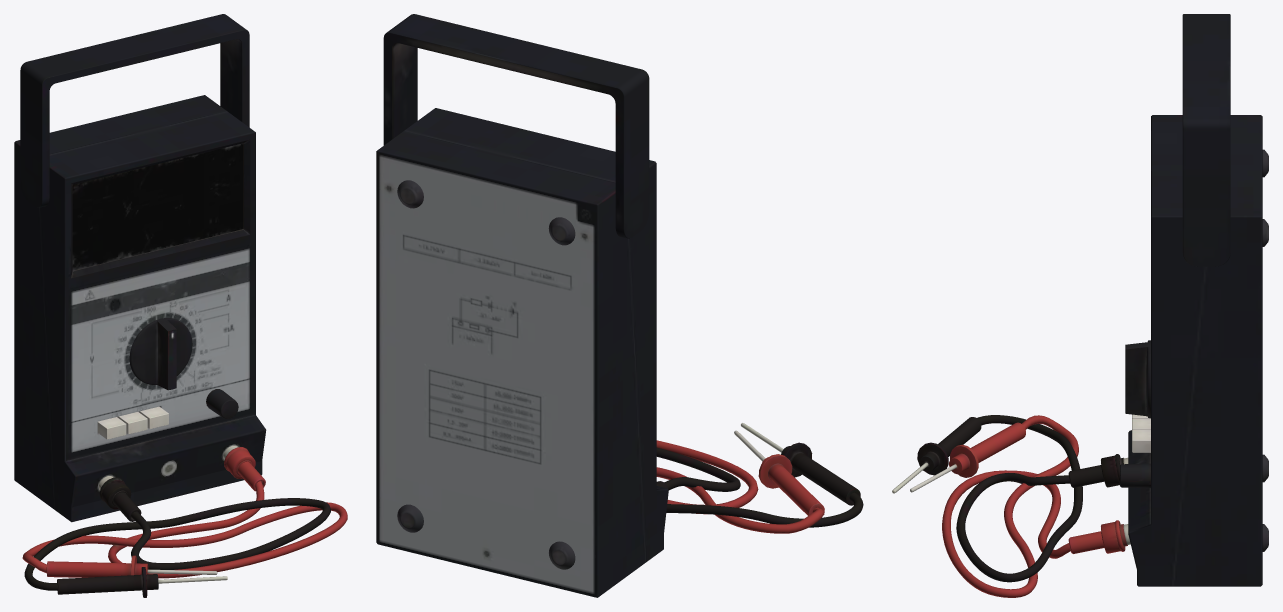
Rendered from multimeter.glb.
3 views of the same model, side by side, from view 1: azimuth 30°, elevation 25°; view 2: azimuth 150°, elevation 25°; view 3: azimuth 270°, elevation 25° (orthographic). The views are drawn at different scales.
Parts seen in each view (by area): view 1: retro_multimeter_LOD0, retro_multimeter_cables_LOD0, retro_multimeter_handle_LOD0, retro_multimeter_dial_LOD0, retro_multimeter_buttons_LOD0, retro_multimeter_knob_LOD0; view 2: retro_multimeter_LOD0, retro_multimeter_handle_LOD0, retro_multimeter_cables_LOD0; view 3: retro_multimeter_LOD0, retro_multimeter_cables_LOD0, retro_multimeter_handle_LOD0, retro_multimeter_dial_LOD0, retro_multimeter_knob_LOD0, retro_multimeter_buttons_LOD0.
Boxes of the visible parts, bbox=[...] form: retro_multimeter_LOD0: bbox=[14, 95, 266, 522]; retro_multimeter_cables_LOD0: bbox=[22, 445, 347, 597]; retro_multimeter_handle_LOD0: bbox=[20, 14, 249, 207]; retro_multimeter_dial_LOD0: bbox=[129, 318, 192, 390]; retro_multimeter_buttons_LOD0: bbox=[97, 406, 168, 439]; retro_multimeter_knob_LOD0: bbox=[206, 389, 238, 418]; retro_multimeter_LOD0: bbox=[376, 108, 668, 597]; retro_multimeter_handle_LOD0: bbox=[383, 14, 649, 238]; retro_multimeter_cables_LOD0: bbox=[656, 423, 863, 533]; retro_multimeter_LOD0: bbox=[1128, 115, 1268, 586]; retro_multimeter_cables_LOD0: bbox=[892, 415, 1130, 597]; retro_multimeter_handle_LOD0: bbox=[1182, 14, 1230, 266]; retro_multimeter_dial_LOD0: bbox=[1125, 340, 1150, 418]; retro_multimeter_knob_LOD0: bbox=[1120, 463, 1150, 487]; retro_multimeter_buttons_LOD0: bbox=[1132, 414, 1150, 452].
Bounding box in the file's own units: 0.216 × 0.2786 × 0.2026.
2 materials, 2 textured.
